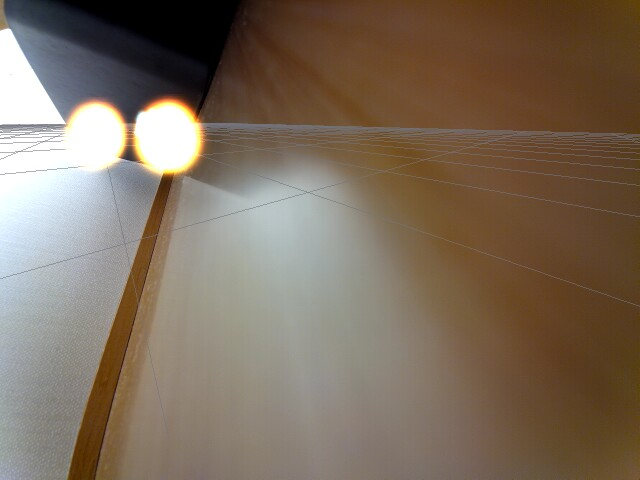fire: (134, 99, 205, 176), (60, 98, 132, 173)
